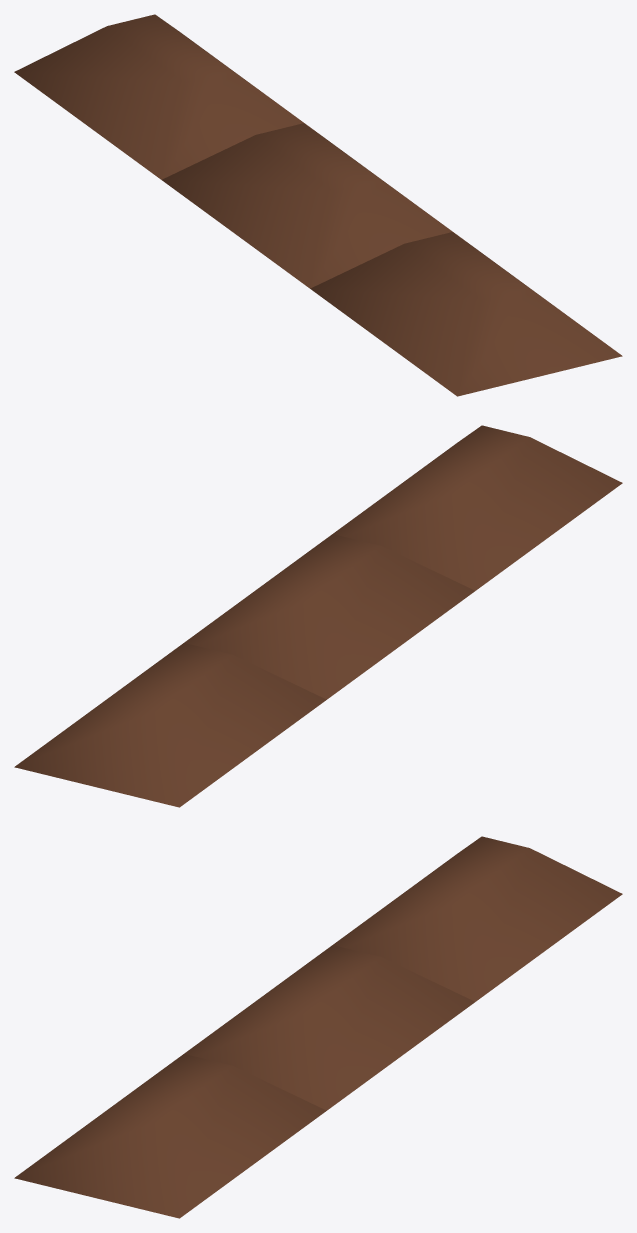
File: Load_Bulk_GBJ_Full.glb
3 views of the same model, one above another, from view 1: azimuth 30°, elevation 25°; view 2: azimuth 150°, elevation 25°; view 3: azimuth 330°, elevation 25° (orthographic).
Visible parts, largest first — view 1: Load_Bulk_GBJ_Full; view 2: Load_Bulk_GBJ_Full; view 3: Load_Bulk_GBJ_Full.
Part boxes in pixels (left/top/right/bottom): Load_Bulk_GBJ_Full: left=14, top=14, right=622, bottom=396; Load_Bulk_GBJ_Full: left=14, top=425, right=622, bottom=807; Load_Bulk_GBJ_Full: left=14, top=836, right=622, bottom=1218.
Bounding box in the file's own units: 2.69 × 0.8805 × 12.48.
Materials: 1 (1 with a texture image).
